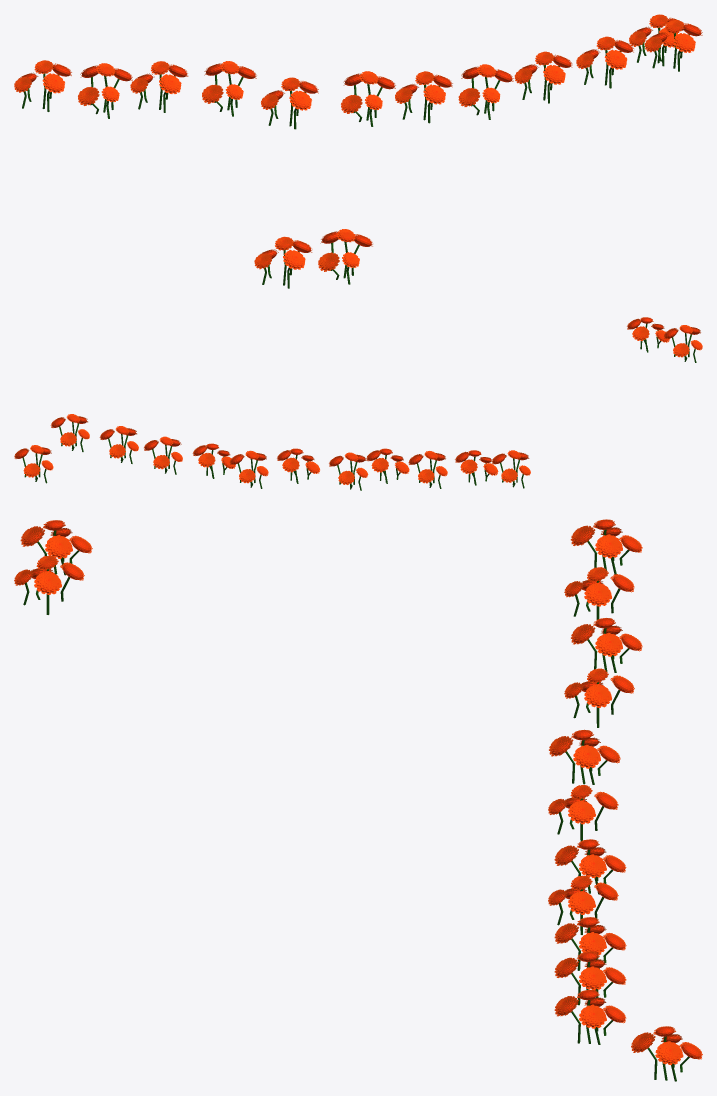
Rendered from florCamino2.obj.
The picture shows the model from 3 angles, top to bottom: view 1: azimuth 30°, elevation 25°; view 2: azimuth 150°, elevation 25°; view 3: azimuth 270°, elevation 25°; orthographic projection. The views are drawn at different scales.
Parts seen in each view (by area): view 1: Plano.526, Plano.544, Plano.542, Plano.548, Plano.546, Plano.543, Plano.551, Plano.525, Plano.549, Plano.550, Plano.541, Plano.547 (+2 smaller); view 2: Plano.541, Plano.552, Plano.542, Plano.525, Plano.547, Plano.543, Plano.550, Plano.551, Plano.544, Plano.545, Plano.546, Plano.549 (+2 smaller); view 3: Plano.545, Plano.551, Plano.552, Plano.543, Plano.541, Plano.526, Plano.525, Plano.550, Plano.544, Plano.547, Plano.542, Plano.546 (+2 smaller).
Part boxes in pixels (bbox=[...]): Plano.526: bbox=[318, 229, 372, 284]; Plano.544: bbox=[202, 61, 256, 116]; Plano.542: bbox=[78, 63, 132, 118]; Plano.548: bbox=[458, 64, 513, 119]; Plano.546: bbox=[341, 71, 395, 126]; Plano.543: bbox=[130, 61, 188, 112]; Plano.551: bbox=[644, 20, 702, 71]; Plano.525: bbox=[254, 236, 312, 288]; Plano.549: bbox=[514, 51, 572, 103]; Plano.550: bbox=[576, 36, 633, 88]; Plano.541: bbox=[14, 60, 71, 111]; Plano.547: bbox=[395, 71, 452, 123]; Plano.541: bbox=[491, 450, 530, 488]; Plano.552: bbox=[14, 445, 53, 483]; Plano.542: bbox=[455, 450, 498, 485]; Plano.525: bbox=[663, 325, 702, 362]; Plano.547: bbox=[229, 450, 268, 488]; Plano.543: bbox=[408, 451, 447, 488]; Plano.550: bbox=[99, 426, 138, 463]; Plano.551: bbox=[50, 414, 89, 451]; Plano.544: bbox=[366, 448, 409, 483]; Plano.545: bbox=[329, 452, 368, 490]; Plano.546: bbox=[277, 448, 319, 483]; Plano.549: bbox=[144, 436, 182, 474]; Plano.545: bbox=[549, 729, 620, 784]; Plano.551: bbox=[554, 989, 626, 1044]; Plano.552: bbox=[631, 1026, 702, 1081]; Plano.543: bbox=[571, 618, 642, 672]; Plano.541: bbox=[570, 519, 642, 574]; Plano.526: bbox=[14, 555, 84, 614]; Plano.525: bbox=[20, 520, 92, 575]; Plano.550: bbox=[554, 951, 626, 1006]; Plano.544: bbox=[564, 668, 634, 727]; Plano.547: bbox=[554, 839, 626, 894]; Plano.542: bbox=[564, 567, 634, 619]; Plano.546: bbox=[548, 785, 618, 841].
Bounding box in the file's own units: 2.42 × 0.589 × 1.82.
